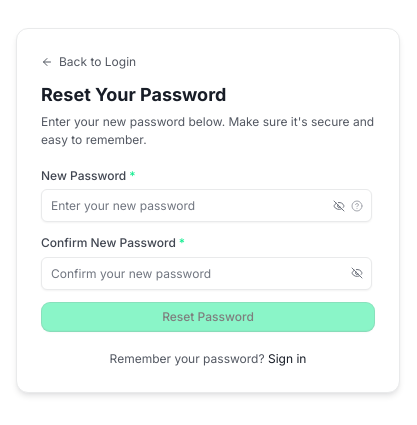
Scenario: ResetPasswordPage › Form validation - Password field › should show required error when password is empty on blur
Click the password field with placeholder "Enter your new password" at (206, 206), box [41,189,372,222]
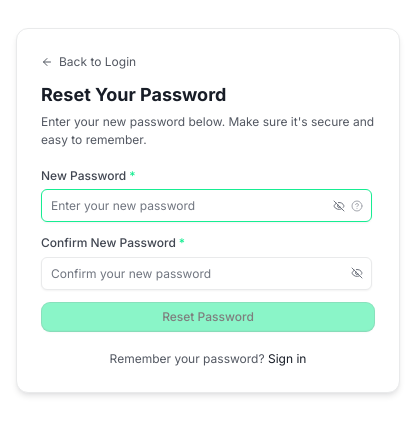
Press Tab
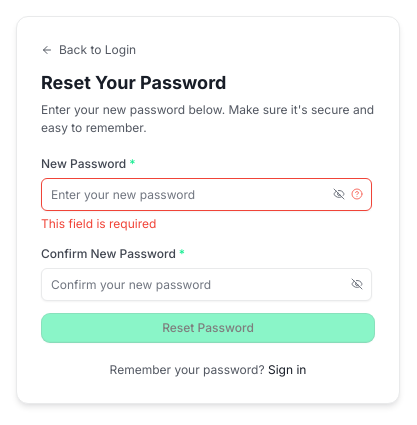
Expected: the text "This field is required" is shown, [41,216,156,231]
